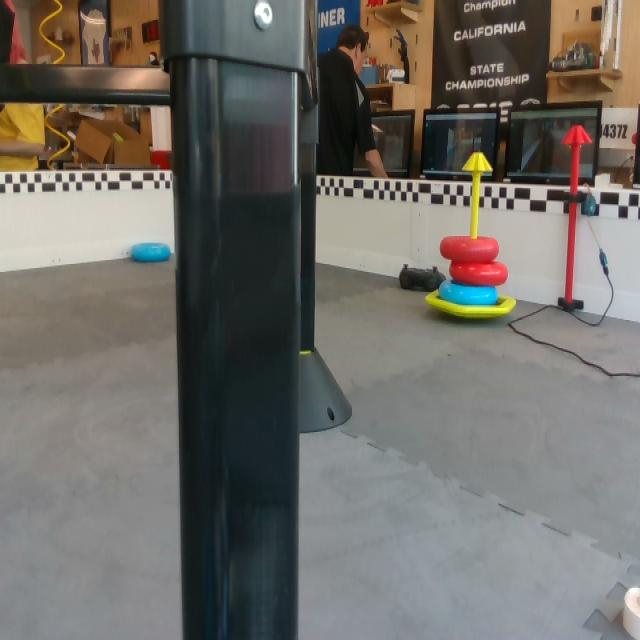Blue-Ring: (439, 279, 501, 307), (129, 243, 171, 263)
Mobile-Goal: (427, 153, 519, 325)
Red-Ring: (444, 257, 509, 285), (437, 236, 502, 262)
Yellow-Stake-Head: (462, 152, 493, 175)
zred-Stake-Head: (562, 126, 592, 144)
